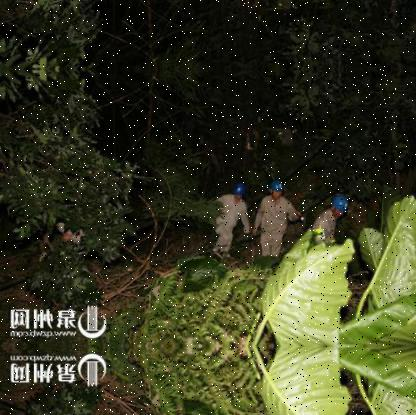helmet: (330, 192, 354, 221), (269, 180, 284, 198), (232, 182, 245, 199)
